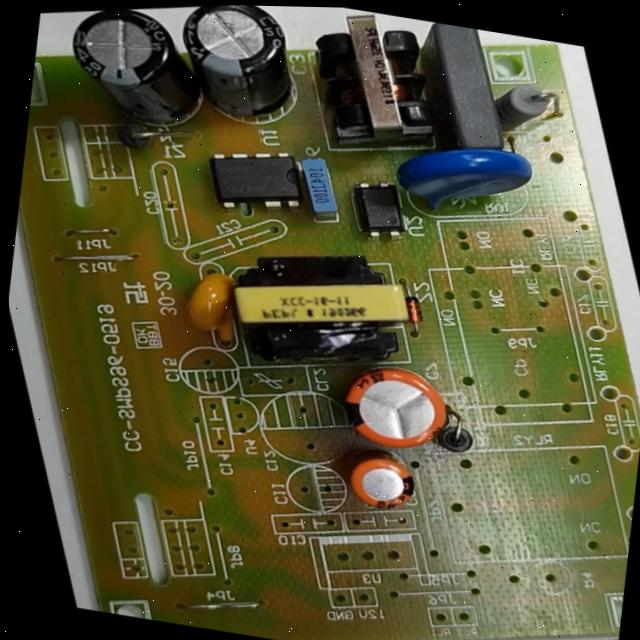Cap1: (312, 340, 476, 477)
Cap2: (316, 431, 448, 534)
Cap3: (146, 3, 333, 154)
Cap4: (35, 1, 241, 167)
MOSFET: (179, 123, 335, 243)
Mov: (370, 115, 562, 246)
Resistor: (474, 66, 580, 159)
Transformer: (196, 219, 444, 408), (274, 6, 475, 180)
